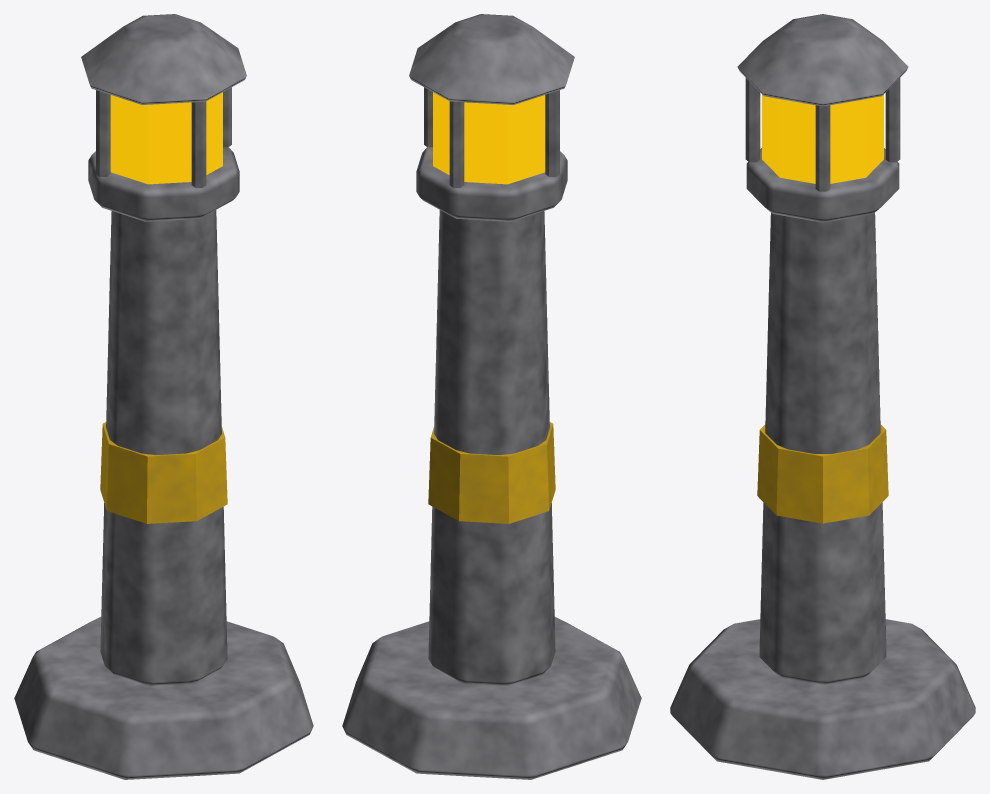
The model's file is nodexeus-beacon.glb.
3 views of the same model, side by side, from view 1: azimuth 30°, elevation 25°; view 2: azimuth 150°, elevation 25°; view 3: azimuth 270°, elevation 25° (orthographic).
Visible parts, largest first — view 1: beacon; view 2: beacon; view 3: beacon.
Boxes of the visible parts, bbox=[...] form: beacon: bbox=[14, 14, 313, 779]; beacon: bbox=[342, 14, 641, 779]; beacon: bbox=[670, 14, 975, 779].
Bounding box in the file's own units: 0.5017 × 1.25 × 0.5017.
1 material, 1 textured.
